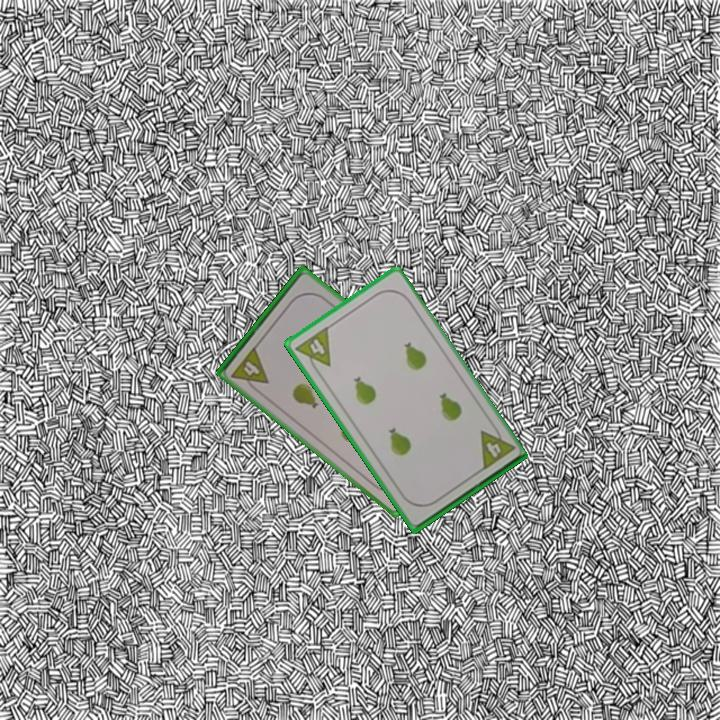4p: (228, 342, 272, 396), (292, 323, 334, 377), (476, 420, 517, 473)
